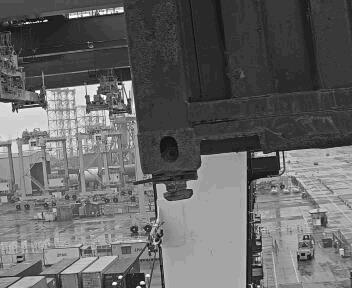twist_lock_1: (169, 166, 228, 204)
